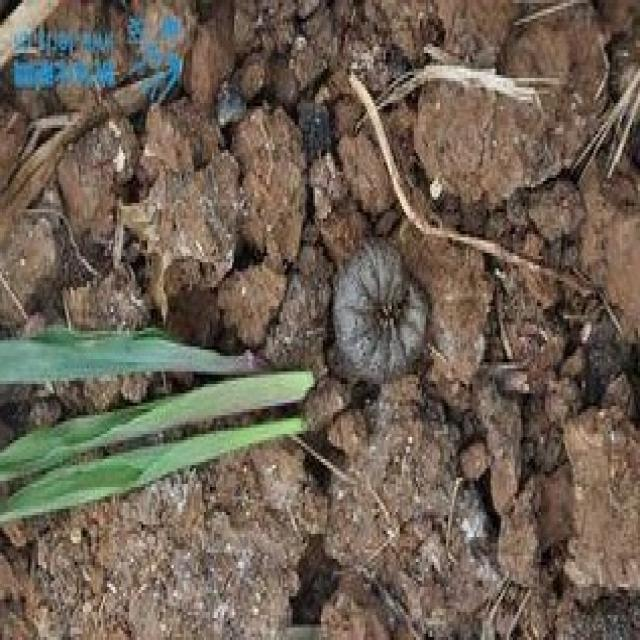black cutworm: (327, 248, 434, 385)
